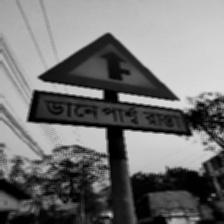Side-road-right: (32, 30, 186, 135)
